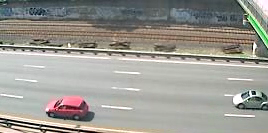car: (44, 95, 91, 121), (229, 87, 268, 113)
